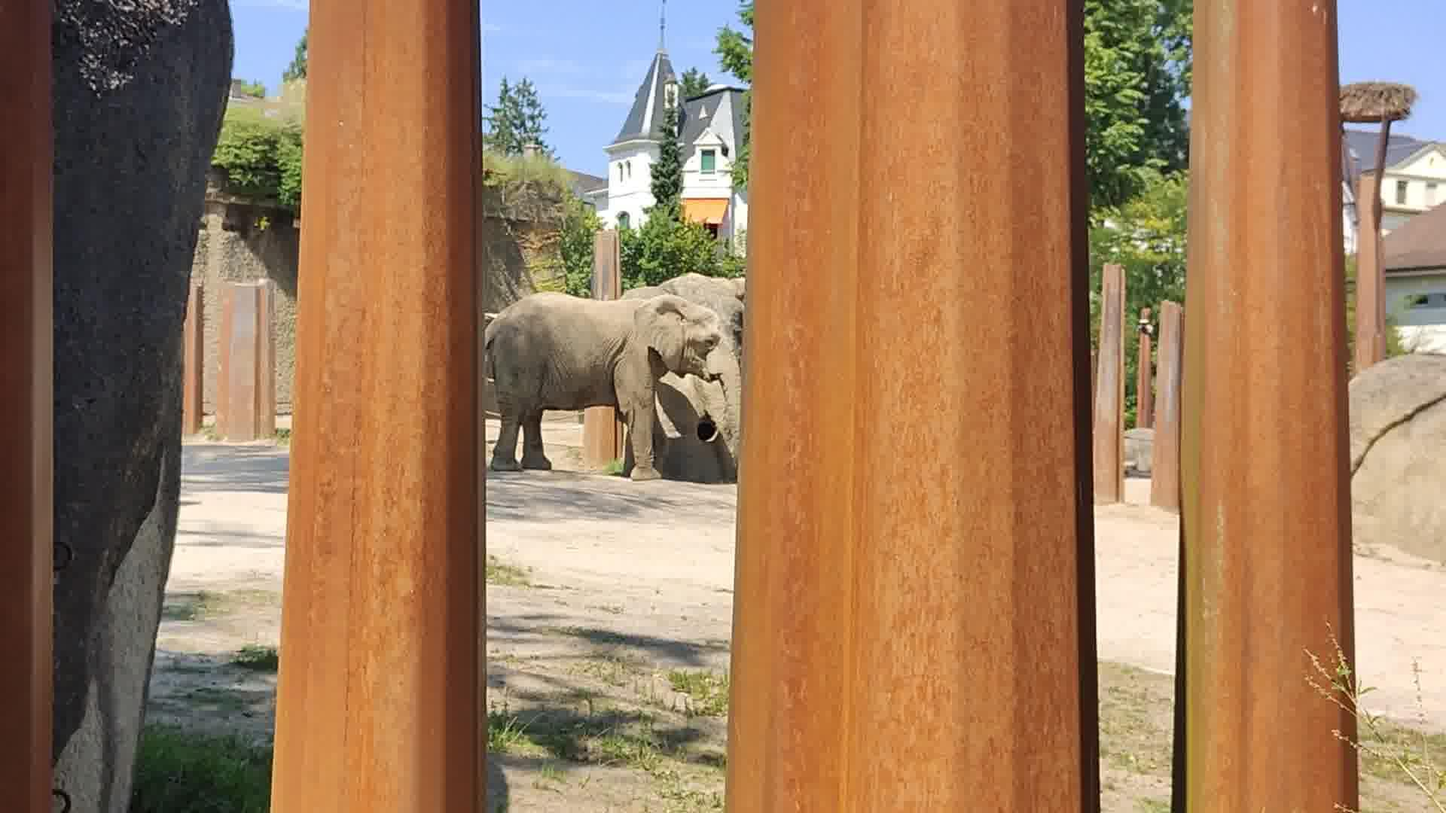raccoon: (484, 292, 740, 482)
